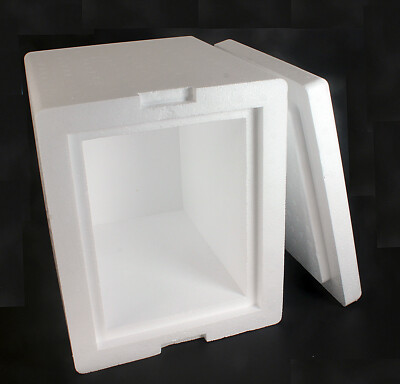Boxes: (25, 37, 334, 373)
